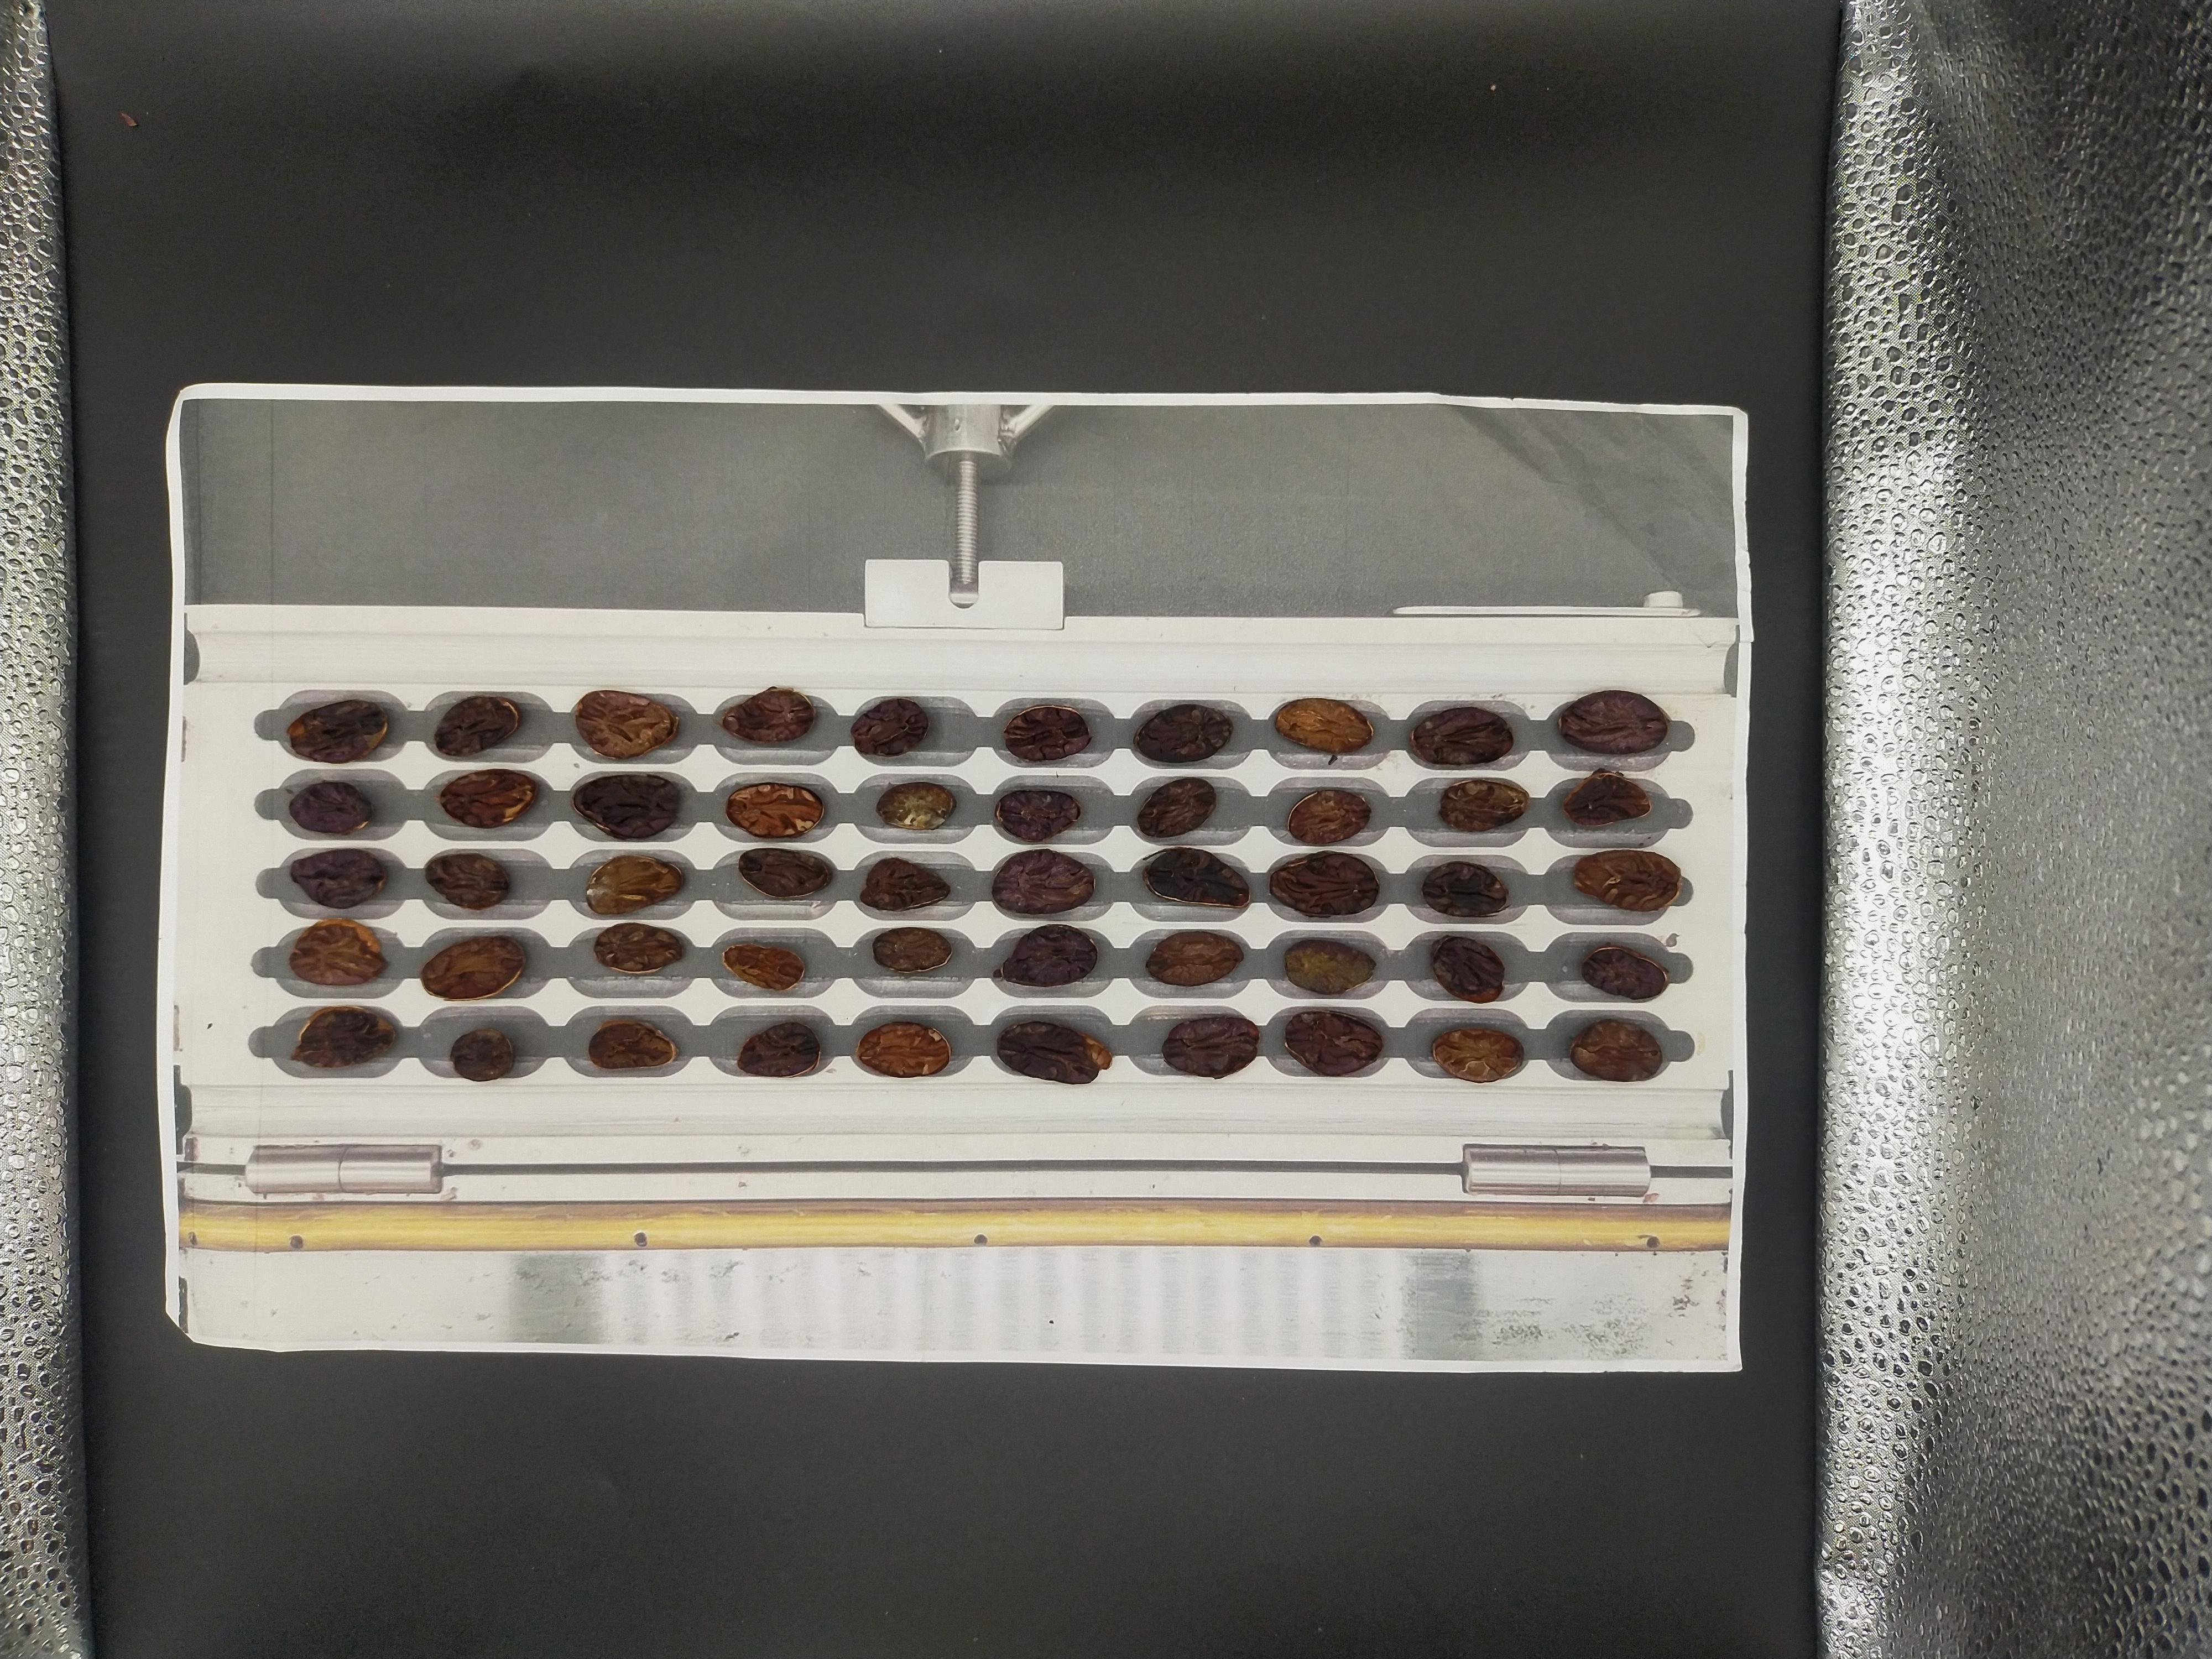Brown - G1: (1226, 467, 1278, 505), (1728, 436, 1787, 469), (1305, 390, 1357, 425), (1451, 399, 1503, 430), (1449, 477, 1494, 512), (1817, 396, 1865, 427), (1521, 523, 1568, 552), (1385, 471, 1428, 500)
Brown - G2: (1885, 434, 1942, 467), (1374, 352, 1425, 389), (1811, 525, 1862, 559), (1738, 401, 1784, 436), (1449, 349, 1496, 380), (1521, 437, 1568, 467)
Brown - G3: (1292, 476, 1353, 512), (1667, 472, 1719, 511), (1730, 354, 1785, 387), (1379, 519, 1432, 551), (1883, 519, 1928, 552)
Brown - G4: (1527, 472, 1568, 500)
Insect-damaged: (1733, 479, 1789, 512)
Mouldy: (1378, 436, 1432, 467), (1527, 399, 1571, 427)
Partly Purple - G1: (1372, 389, 1428, 429), (1592, 361, 1641, 394)
Partly Purple - G2: (1663, 432, 1721, 471), (1587, 436, 1642, 472), (1672, 519, 1726, 556), (1226, 361, 1282, 394), (1301, 354, 1350, 390), (1804, 361, 1860, 390), (1458, 521, 1503, 554), (1515, 359, 1561, 389)
Total Purple - G2: (1226, 436, 1282, 465), (1590, 403, 1637, 432)
Total Purple - G3: (1878, 350, 1933, 389), (1588, 472, 1646, 509), (1888, 479, 1933, 518), (1226, 397, 1271, 432)
Very Dark Brown - G1: (1587, 521, 1648, 558), (1230, 518, 1282, 549), (1813, 479, 1850, 512)
Very Dark Brown - G2: (1738, 518, 1789, 552), (1663, 394, 1705, 432), (1298, 436, 1339, 469), (1883, 394, 1925, 425), (1806, 443, 1853, 469)
Very Dark Brown - G3: (1658, 361, 1712, 396), (1310, 523, 1350, 556), (1458, 436, 1507, 462)
